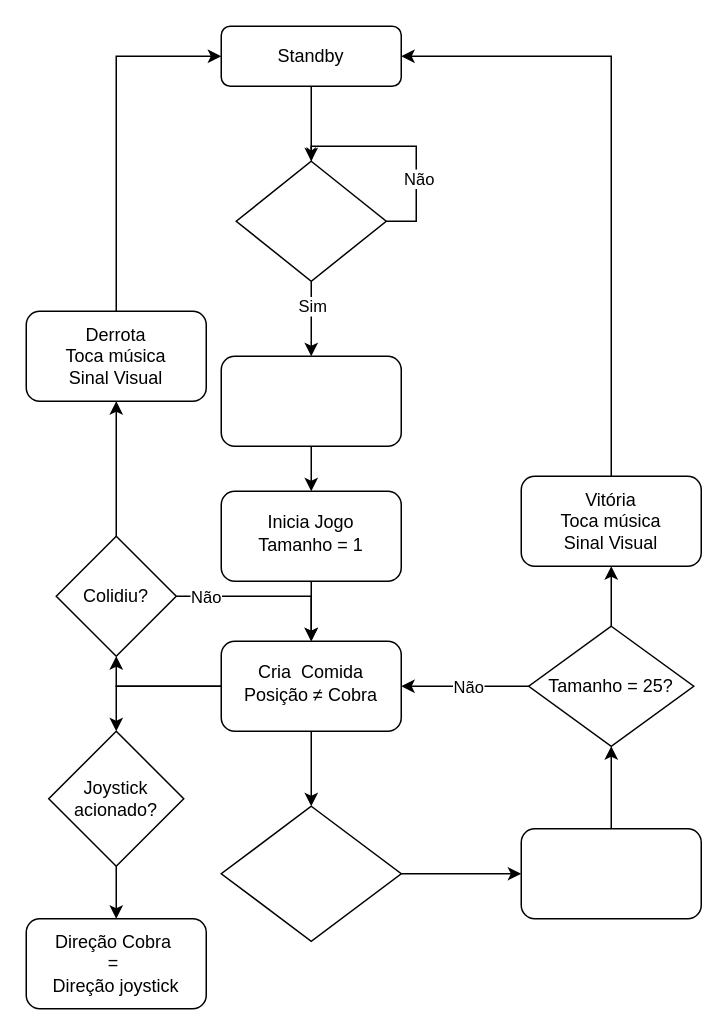
This 728x1035 diagram has some shape labels left out. Each missing label, with the centre of its shape:
"Botão Pressionado?" belongs at [310,220].
"Contagem Regressiva" belongs at [310,400].
"Se Cobra pega comida" belongs at [310,873].
"Tamanho +1 Acende LED ≠ Direção" belongs at [610,873].
